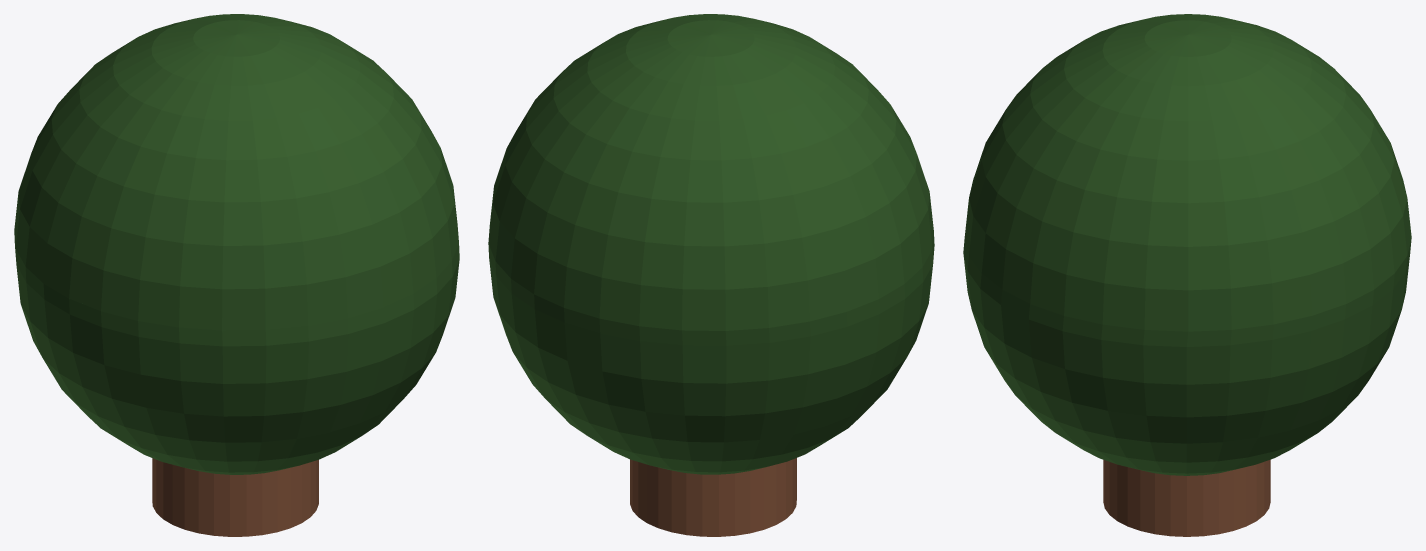
File: tree4.fbx
The picture shows the model from 3 angles, left to right: view 1: azimuth 30°, elevation 25°; view 2: azimuth 150°, elevation 25°; view 3: azimuth 270°, elevation 25°; orthographic projection.
Visible parts, largest first — view 1: Cylinder; view 2: Cylinder; view 3: Cylinder.
Part boxes in pixels (x1,y1,x2,y2): Cylinder: (14, 14, 459, 536); Cylinder: (488, 14, 934, 536); Cylinder: (963, 14, 1411, 536).
Bounding box in the file's own units: 160 × 185 × 160.
